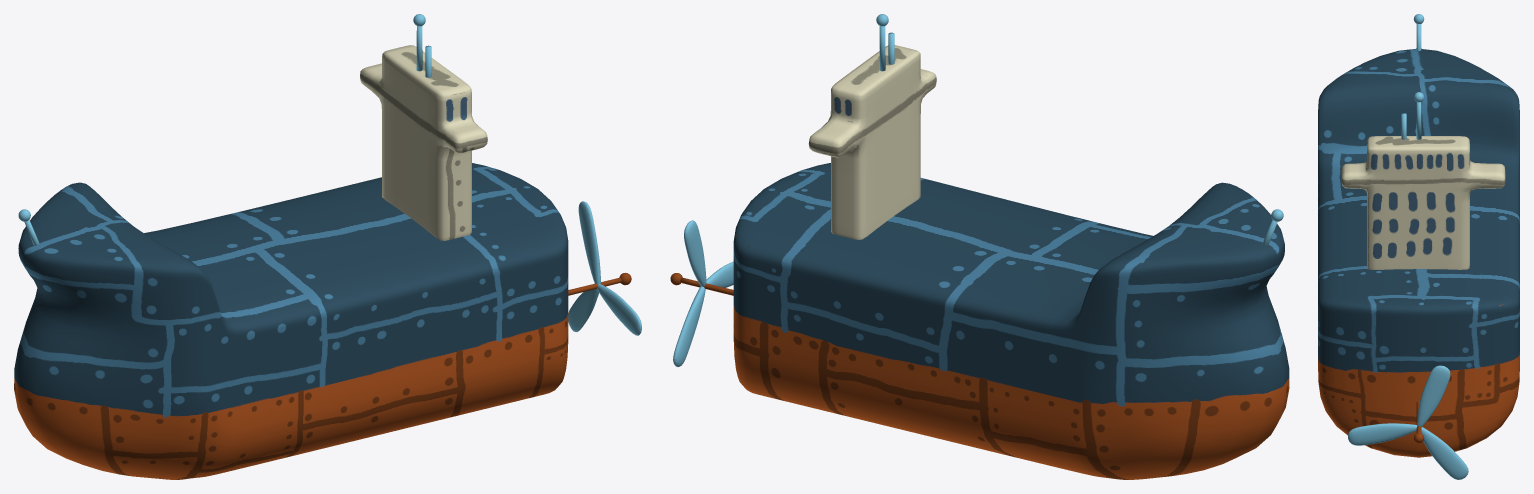
File: SHIPblend2.fbx
3 renders of one model, left to right at view 1: azimuth 30°, elevation 25°; view 2: azimuth 150°, elevation 25°; view 3: azimuth 270°, elevation 25°, orthographic. The views are drawn at different scales.
Visible parts, largest first — view 1: SHIP_BODY, SHIP_TOWER, PROPELLER.001; view 2: SHIP_BODY, SHIP_TOWER, PROPELLER.001; view 3: SHIP_BODY, SHIP_TOWER, PROPELLER.001, SHIP_ROD, SHIP_ROD_002.
Boxes of the visible parts, x1,y1,x2,y2 form: SHIP_BODY: (14,163,568,479); SHIP_TOWER: (360,45,487,240); PROPELLER.001: (568,201,641,335); SHIP_BODY: (733,163,1289,479); SHIP_TOWER: (808,45,936,239); PROPELLER.001: (673,220,733,366); SHIP_BODY: (1318,49,1519,457); SHIP_TOWER: (1341,136,1505,269); PROPELLER.001: (1348,365,1468,479); SHIP_ROD: (1413,92,1424,139); SHIP_ROD_002: (1413,14,1424,50).
Size of the model in its own units: 4199 by 2542 by 1440.
